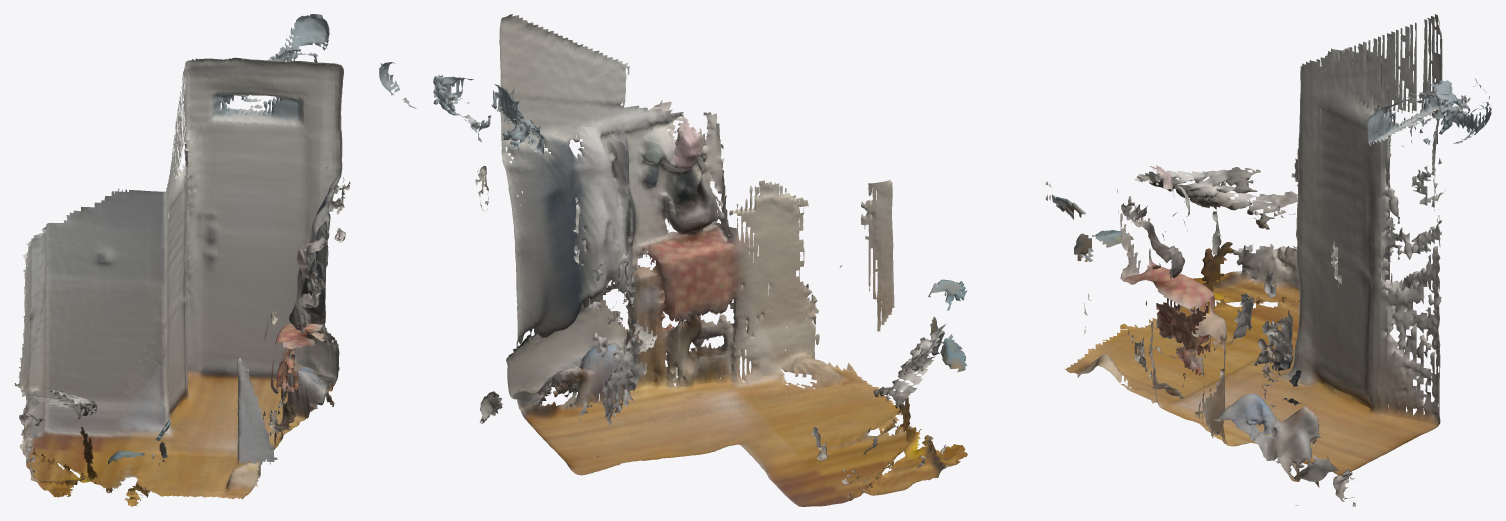
File: scan-89bdb6d879c0.glb
The picture shows the model from 3 angles, left to right: view 1: azimuth 30°, elevation 25°; view 2: azimuth 150°, elevation 25°; view 3: azimuth 270°, elevation 25°; orthographic projection. The views are drawn at different scales.
Bounding box in the file's own units: 3.25 × 2.76 × 2.78.
